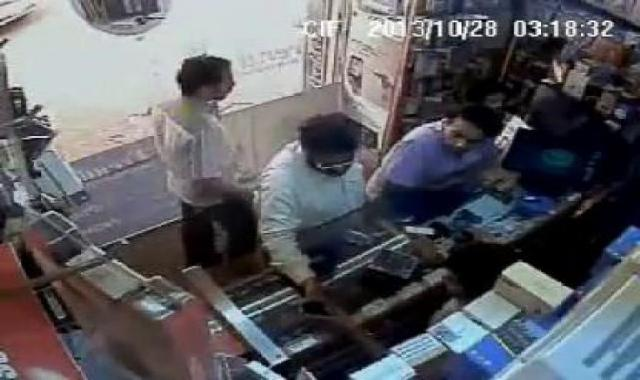no_hairnet: (291, 110, 375, 169), (442, 105, 510, 154), (179, 56, 249, 102)
